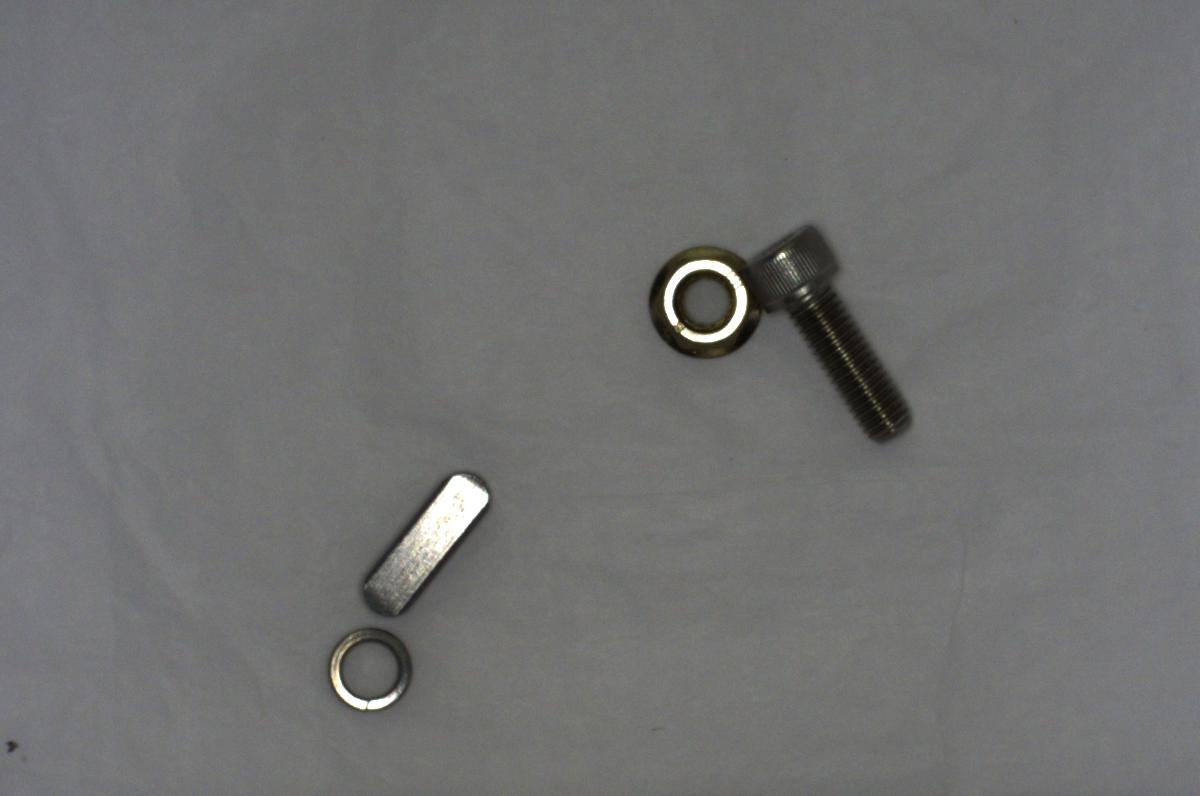Flange nut: (637, 240, 764, 362)
Hexagon screw: (742, 219, 912, 442)
Keybar: (351, 465, 507, 622)
Spring washer: (319, 618, 428, 727)
